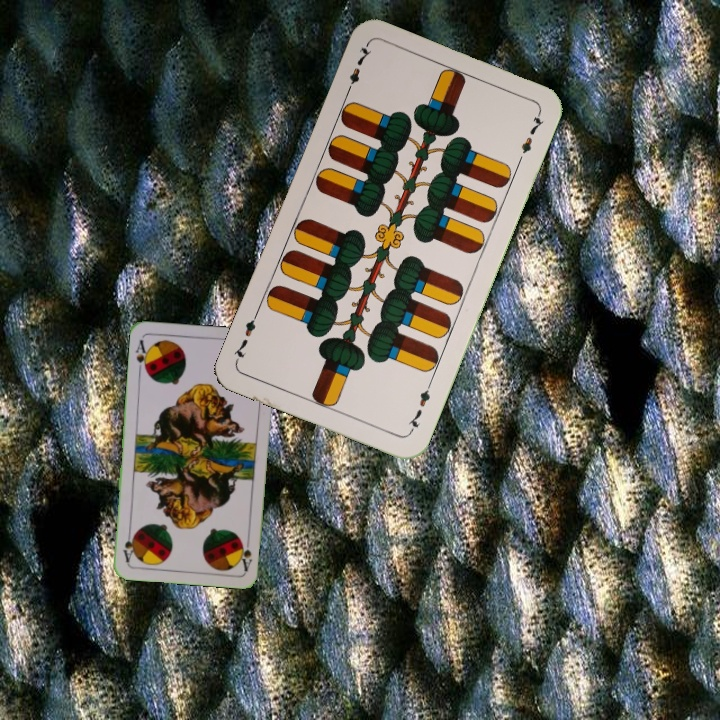E7: (342, 41, 374, 97), (404, 379, 435, 435)
SA: (131, 336, 152, 376), (237, 532, 255, 573)
